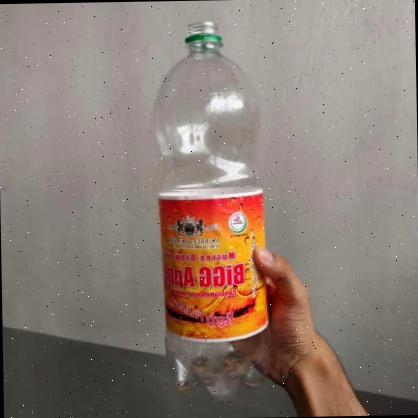bottle: (150, 18, 266, 404)
label: (153, 188, 264, 340)
